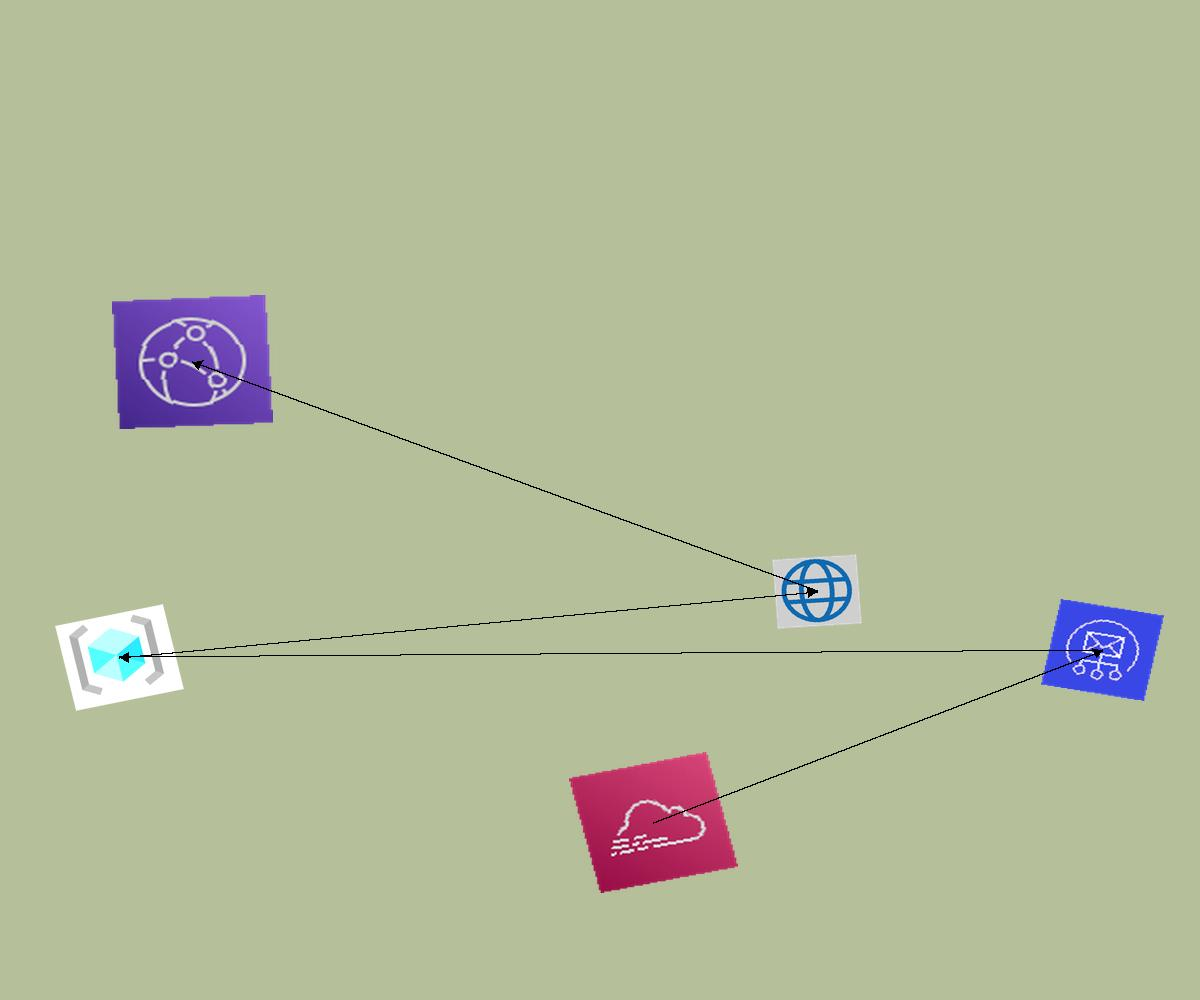AWS-CloudFront: (112, 295, 273, 429)
AWS-CloudTrail: (569, 752, 738, 893)
AWS-Simple-Email-Service: (1041, 599, 1164, 701)
Azure_http: (772, 554, 862, 629)
Azure_resource_group: (55, 604, 184, 711)
